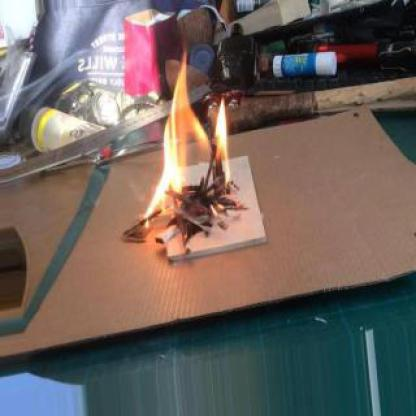Fire: (142, 53, 234, 233)
